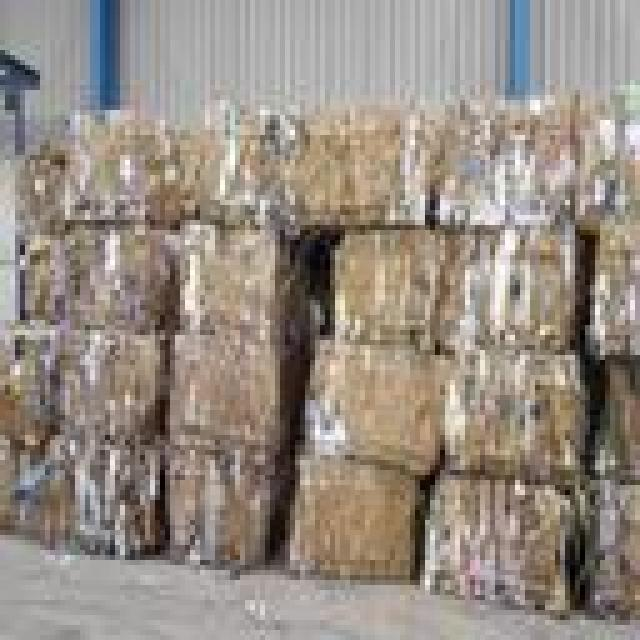cardboard: (435, 335, 585, 475), (420, 465, 570, 605), (430, 85, 575, 220), (285, 445, 430, 580), (295, 330, 435, 465), (270, 105, 430, 220), (425, 220, 570, 340), (165, 325, 300, 450), (160, 440, 290, 565), (170, 220, 315, 330), (45, 430, 165, 550), (60, 105, 175, 215), (45, 325, 155, 435), (60, 220, 170, 325), (330, 220, 425, 335), (180, 110, 270, 215), (570, 80, 635, 220), (575, 470, 635, 610), (575, 215, 635, 350), (585, 355, 635, 470), (0, 330, 45, 435), (5, 145, 60, 225), (15, 230, 60, 325), (0, 435, 40, 535)
